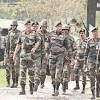uniform: (47, 27, 68, 100), (20, 30, 37, 92), (64, 32, 81, 93), (73, 35, 87, 95), (87, 35, 100, 92), (6, 24, 18, 85), (38, 30, 48, 93)
